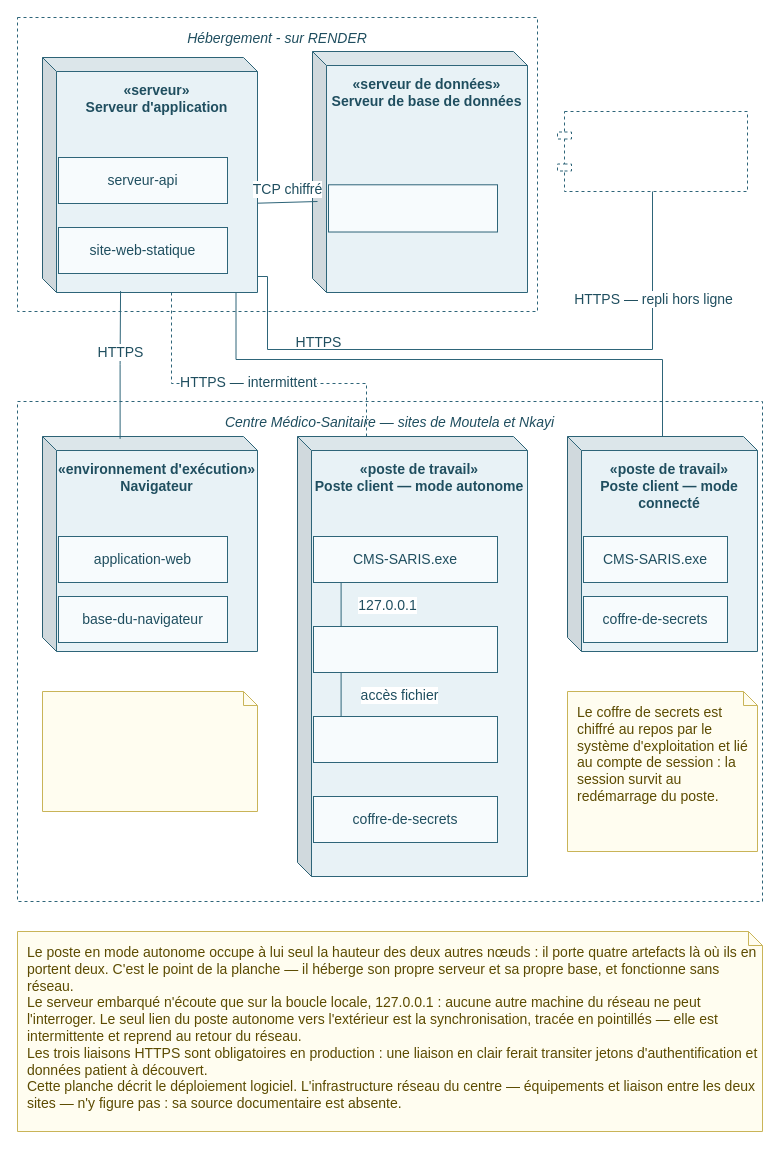
The diagram is 780 pixels wide and 1149 high, and some of its shapes have lost their labels. Here are the shapes that lost their labels. From the top down, the centre of each, then its label:
At [652,151]: "«externe» Service de géolocalisation".
At [413,208]: "base-cms-saris".
At [405,649]: "serveur-api-embarque".
At [150,751]: "La file des écritures hors ligne du navigateur est chiffrée en AES-256-GCM.".
At [405,739]: "base-locale.db".
